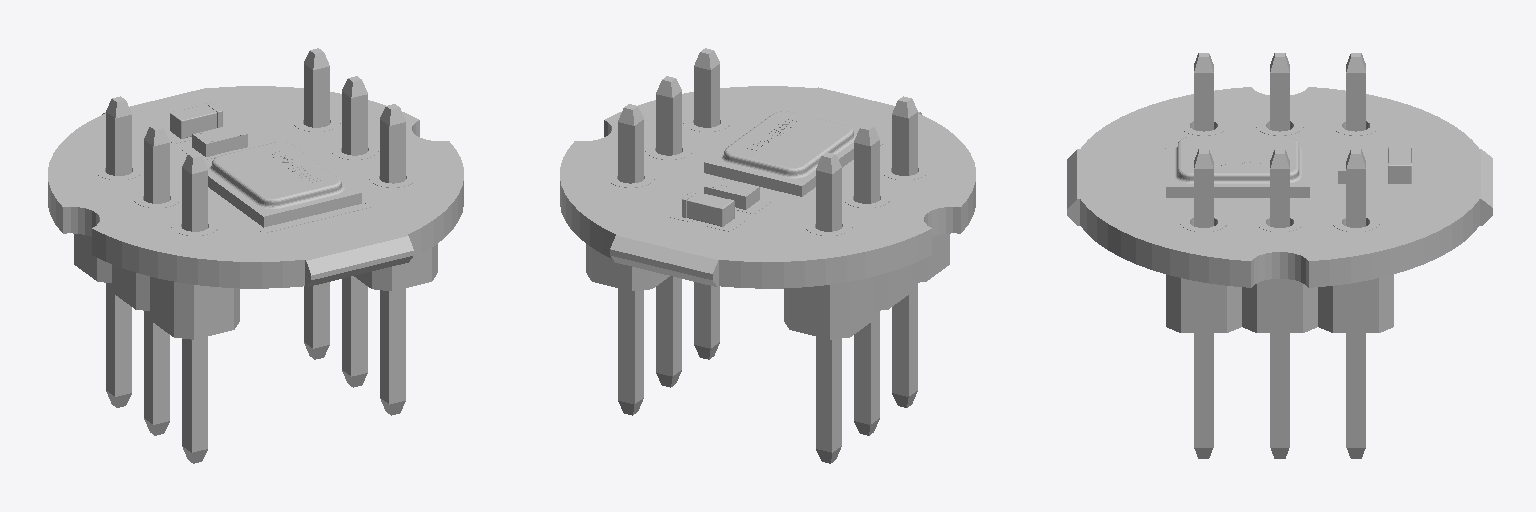
File: INMP441 I2S Microphone Module v15.obj
3 views of the same model, side by side, from view 1: azimuth 30°, elevation 25°; view 2: azimuth 150°, elevation 25°; view 3: azimuth 270°, elevation 25° (orthographic).
Parts seen in each view (by area): view 1: Solid1:4, Solid10, Solid12, Solid15, Solid11, Solid14, Solid13, Solid17, Solid18, Solid16, Solid9, Solid1:1; view 2: Solid1:4, Solid10, Solid12, Solid18, Solid14, Solid11, Solid13, Solid17, Solid15, Solid16, Solid9, Solid1:1; view 3: Solid1:4, Solid16, Solid10, Solid17, Solid15, Solid18, Solid13, Solid11, Solid14, Solid9.
Boxes of the visible parts, x1=… form: Solid1:4: x1=48, y1=86, x2=463, y2=288; Solid10: x1=205, y1=140, x2=361, y2=218; Solid12: x1=74, y1=234, x2=239, y2=339; Solid15: x1=380, y1=104, x2=405, y2=415; Solid11: x1=182, y1=152, x2=207, y2=463; Solid14: x1=106, y1=96, x2=131, y2=407; Solid13: x1=144, y1=124, x2=169, y2=435; Solid17: x1=342, y1=76, x2=367, y2=387; Solid18: x1=304, y1=48, x2=329, y2=359; Solid16: x1=354, y1=244, x2=437, y2=290; Solid9: x1=208, y1=179, x2=361, y2=227; Solid1:1: x1=176, y1=104, x2=216, y2=137; Solid1:4: x1=560, y1=86, x2=975, y2=288; Solid10: x1=704, y1=110, x2=858, y2=188; Solid12: x1=784, y1=234, x2=949, y2=339; Solid18: x1=618, y1=104, x2=643, y2=415; Solid14: x1=816, y1=152, x2=841, y2=463; Solid11: x1=892, y1=96, x2=917, y2=407; Solid13: x1=854, y1=124, x2=879, y2=435; Solid17: x1=656, y1=76, x2=681, y2=387; Solid15: x1=694, y1=48, x2=719, y2=359; Solid16: x1=586, y1=244, x2=669, y2=290; Solid9: x1=704, y1=151, x2=853, y2=196; Solid1:1: x1=687, y1=192, x2=728, y2=225; Solid1:4: x1=1067, y1=87, x2=1492, y2=287; Solid16: x1=1166, y1=274, x2=1393, y2=332; Solid10: x1=1166, y1=137, x2=1309, y2=189; Solid17: x1=1270, y1=149, x2=1289, y2=458; Solid15: x1=1194, y1=149, x2=1213, y2=458; Solid18: x1=1346, y1=149, x2=1365, y2=458; Solid13: x1=1270, y1=53, x2=1289, y2=131; Solid11: x1=1194, y1=53, x2=1213, y2=131; Solid14: x1=1346, y1=53, x2=1365, y2=131; Solid9: x1=1166, y1=190, x2=1309, y2=197.
Bounding box in the file's own units: 13.77 × 11.25 × 14.24.